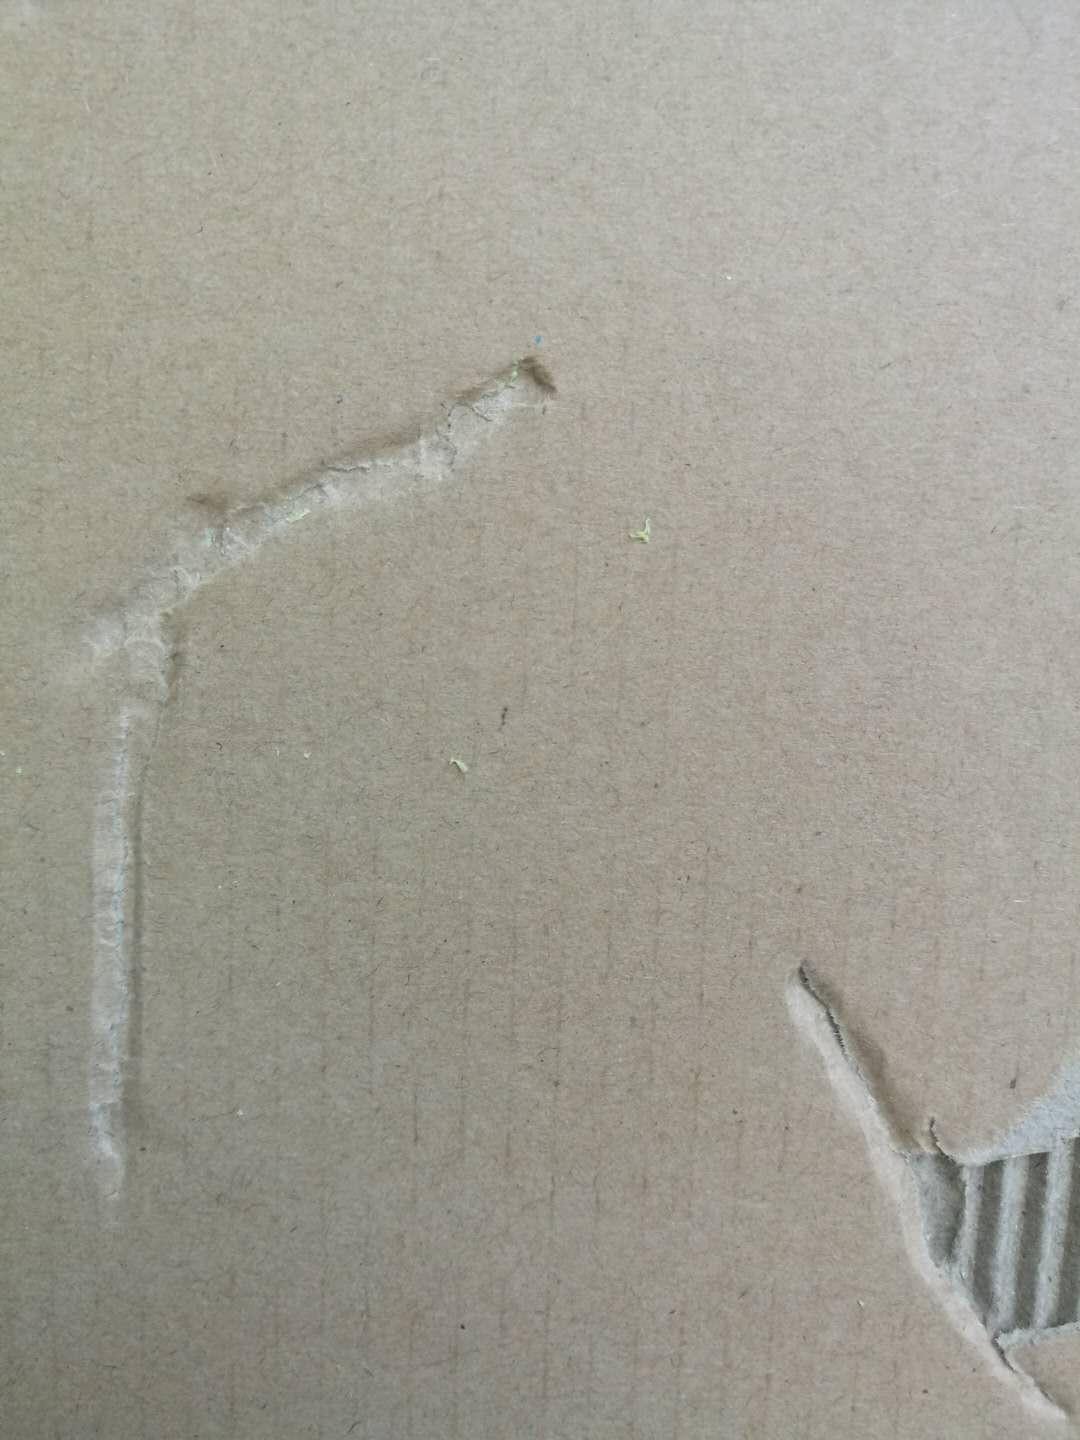defect: (39, 317, 591, 1212), (762, 920, 1080, 1433)
